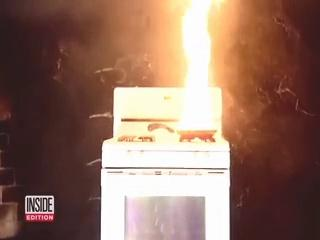Fire: (164, 1, 230, 135)
